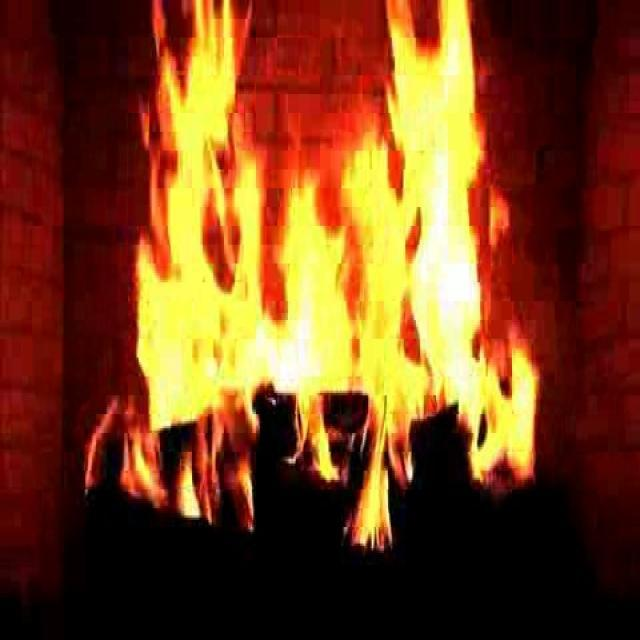Fire: (137, 39, 490, 532)
